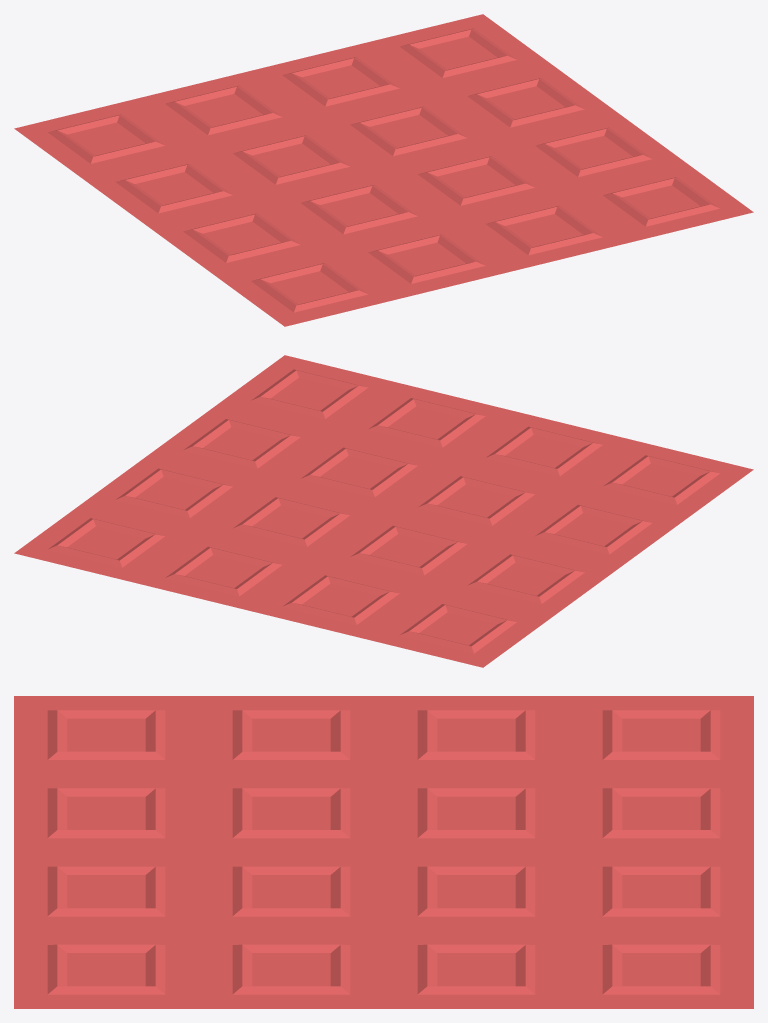
Rendered from CubeBevelFloor.fbx.
3 views of the same model, one above another, from view 1: azimuth 30°, elevation 25°; view 2: azimuth 150°, elevation 25°; view 3: azimuth 270°, elevation 25° (orthographic). The views are drawn at different scales.
Parts seen in each view (by area): view 1: Cube; view 2: Cube; view 3: Cube.
Boxes of the visible parts, <box> form: Cube: <box>14,14,753,326</box>; Cube: <box>14,355,753,667</box>; Cube: <box>14,696,753,1008</box>.
Bounding box in the file's own units: 800 × 800 × 5.
